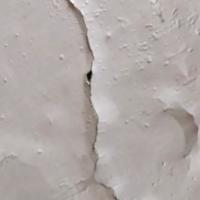crack: (57, 1, 138, 187)
